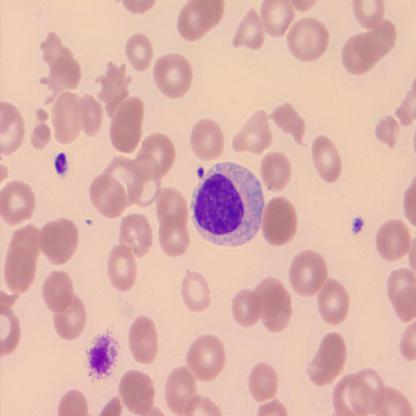Myelocyte: (189, 163, 265, 243)
